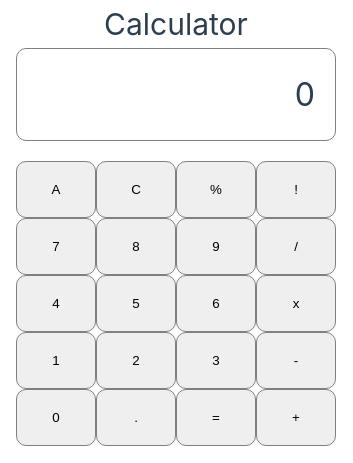
Calculator › should display a number when a click a number button
Click the button "8" at x=136, y=247, box left=96, top=218, right=176, bottom=275
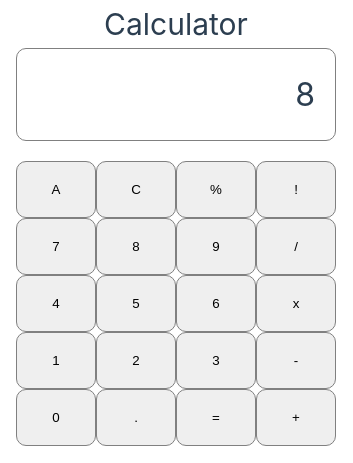
Check: the text with class "display" reads "8", box left=295, top=75, right=315, bottom=114
